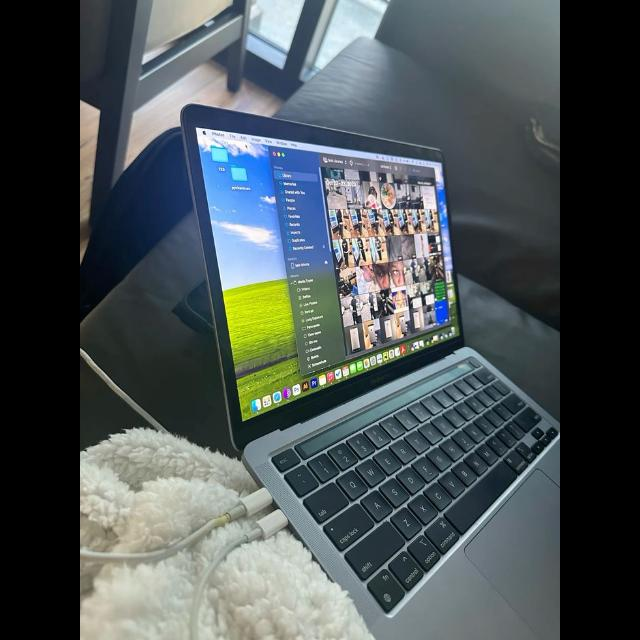laptop: (180, 100, 560, 574)
